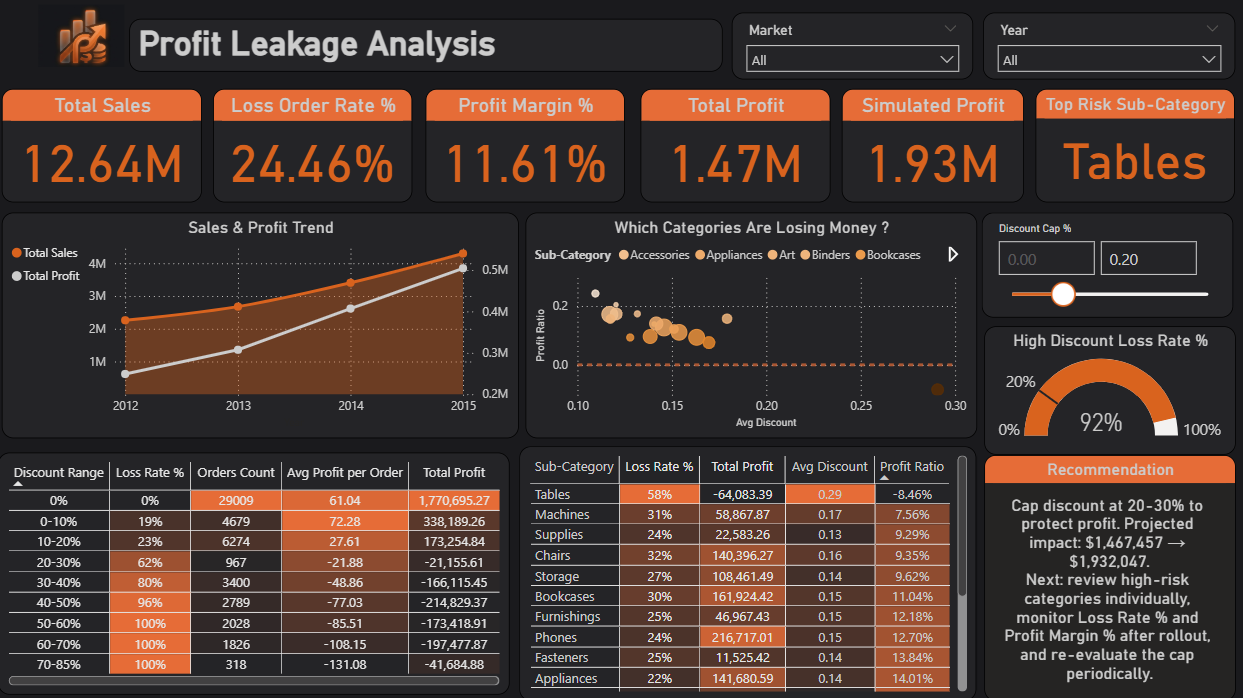

This screenshot's page, from the dashboard's own definition file:
{"tool":"powerbi","page":{"name":"Overview","canvas":[1280,720],"ordinal":0},"visuals":[{"type":"card","title":"Total Sales","fields":{"Values":["Orders.Total Sales"]},"box":[3.6,91.7,206,116.7],"z":0},{"type":"card","title":"Total Profit","fields":{"Values":["Orders.Total Profit"]},"box":[659.5,91.7,195.2,116.7],"z":1000},{"type":"card","title":"Profit Margin % ","fields":{"Values":["Orders.Profit Margin %"]},"box":[439.3,91.7,204.8,116.7],"z":2000},{"type":"card","title":"Loss Order Rate %","fields":{"Values":["Orders.Loss Order Rate %"]},"box":[220.2,91.7,204.8,116.7],"z":3000},{"type":"lineChart","title":"Sales & Profit Trend","fields":{"Category":["Date_Table.Date.Variation.Date Hierarchy.Year","Date_Table.Date.Variation.Date Hierarchy.Quarter","Date_Table.Date.Variation.Date Hierarchy.Month","Date_Table.Date.Variation.Date Hierarchy.Day"],"Y":["Orders.Total Sales"],"Y2":["Orders.Total Profit"]},"box":[4.1,218.2,531,231.9],"z":4000},{"type":"tableEx","fields":{"Values":["Orders.Discount Range","Date_Table.Loss Rate %","Orders.Orders Count","Orders.Avg Profit per Order","Orders.Total Profit"]},"box":[0,464.8,525.2,249.1],"z":5000},{"type":"gauge","fields":{"Y":["Date_Table.High Discount Loss Rate %"]},"box":[1013.1,334.5,258.3,132.1],"z":6000},{"type":"slicer","fields":{"Values":["Discount Cap % .Discount Cap % "]},"box":[1010.7,217.9,258.3,108.3],"z":7000},{"type":"card","title":"Simulated Profit ","fields":{"Values":["Date_Table.Simulated Profit (Capped Discount)"]},"box":[866.7,91.7,186.9,116.7],"z":8000},{"type":"image","box":[11,0,148.2,74.1],"z":9000},{"type":"textbox","title":"Profit Leakage Analysis","box":[134.5,19,609.5,54.8],"z":10000},{"type":"slicer","fields":{"Values":["Date_Table.Date.Variation.Date Hierarchy.Year"]},"box":[1011.3,12.3,259.3,68.6],"z":11000},{"type":"slicer","fields":{"Values":["Orders.Market"]},"box":[753.3,12.3,248.4,68.6],"z":12000},{"type":"card","title":"Top Risk Sub-Category","fields":{"Values":["Date_Table.Top Risk Sub-Category"]},"box":[1065.5,91.7,204.8,116.7],"z":13000},{"type":"tableEx","fields":{"Values":["Orders.Sub-Category","Date_Table.Loss Rate %","Orders.Total Profit","Date_Table.Avg Discount","Date_Table.Profit Ratio"]},"box":[535.5,458.4,470,262],"z":14000},{"type":"scatterChart","title":"Which Categories Are Losing Money ?","fields":{"Y":["Date_Table.Profit Ratio"],"X":["Date_Table.Avg Discount"],"Size":["Orders.Total Sales"],"Series":["Orders.Sub-Category"]},"box":[542,218.2,463.8,231.9],"z":15000},{"type":"card","title":"Recommendation","fields":{"Values":["Date_Table.Recommendation Text"]},"box":[1013.2,467.4,258.1,253],"z":16000}]}

Visuals, with their boxes in screenshot pixels (x1, y1, x2, y2), scaled from the page's 1280x720 canvas onto the 1243x698 screenshot:
"Total Sales" card: crop(3, 89, 204, 202)
"Total Profit" card: crop(640, 89, 830, 202)
"Profit Margin % " card: crop(427, 89, 625, 202)
"Loss Order Rate %" card: crop(214, 89, 413, 202)
"Sales & Profit Trend" lineChart: crop(4, 212, 520, 436)
tableEx - Orders.Discount Range x Date_Table.Loss Rate %: crop(0, 451, 510, 692)
gauge - Date_Table.High Discount Loss Rate %: crop(984, 324, 1235, 452)
slicer - Discount Cap % .Discount Cap % : crop(981, 211, 1232, 316)
"Simulated Profit " card: crop(842, 89, 1023, 202)
image: crop(11, 0, 155, 72)
"Profit Leakage Analysis" textbox: crop(131, 18, 722, 72)
slicer - Date_Table.Date.Variation.Date Hierarchy.Year: crop(982, 12, 1234, 78)
slicer - Orders.Market: crop(732, 12, 973, 78)
"Top Risk Sub-Category" card: crop(1035, 89, 1234, 202)
tableEx - Orders.Sub-Category x Date_Table.Loss Rate %: crop(520, 444, 976, 697)
"Which Categories Are Losing Money ?" scatterChart: crop(526, 212, 977, 436)
"Recommendation" card: crop(984, 453, 1235, 697)
